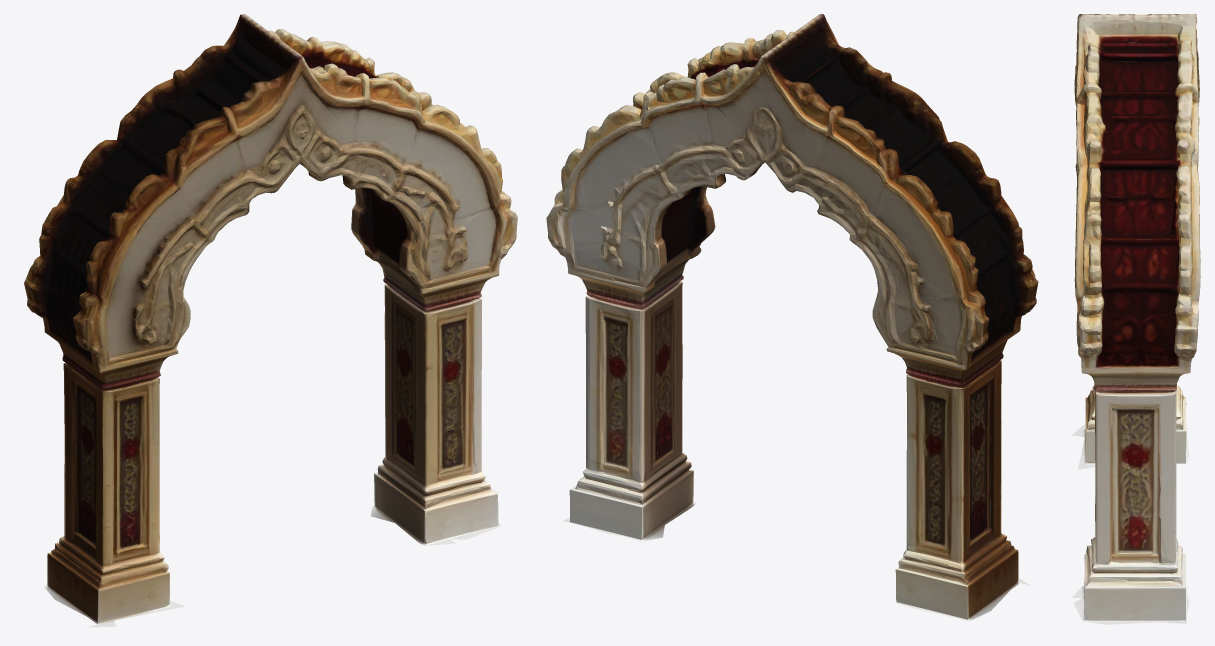
The model's file is arch.glb.
The picture shows the model from 3 angles, left to right: view 1: azimuth 30°, elevation 25°; view 2: azimuth 150°, elevation 25°; view 3: azimuth 270°, elevation 25°; orthographic projection.
Parts seen in each view (by area): view 1: geometry_0; view 2: geometry_0; view 3: geometry_0.
Part boxes in pixels (<box>): geometry_0: <box>24,14,517,627</box>; geometry_0: <box>546,14,1038,621</box>; geometry_0: <box>1071,14,1200,624</box>.
Bounding box in the file's own units: 0.8982 × 1 × 0.2358.
Materials: 1 (1 with a texture image).
